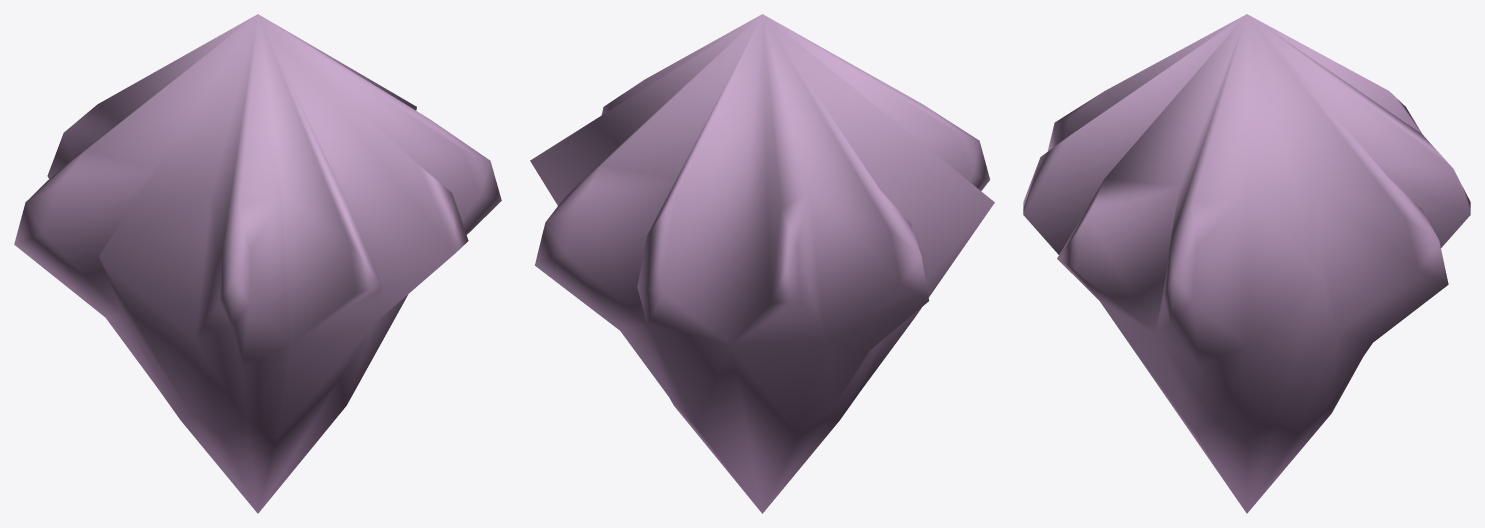
File: Coral08_LP.fbx
The picture shows the model from 3 angles, left to right: view 1: azimuth 30°, elevation 25°; view 2: azimuth 150°, elevation 25°; view 3: azimuth 270°, elevation 25°; orthographic projection.
Parts seen in each view (by area): view 1: pCone1; view 2: pCone1; view 3: pCone1.
Boxes of the visible parts, left/top/right/bottom form: pCone1: left=14, top=14, right=501, bottom=513; pCone1: left=530, top=14, right=994, bottom=513; pCone1: left=1023, top=14, right=1470, bottom=513.
Size of the model in its own units: 2.93 by 3.41 by 2.77.
